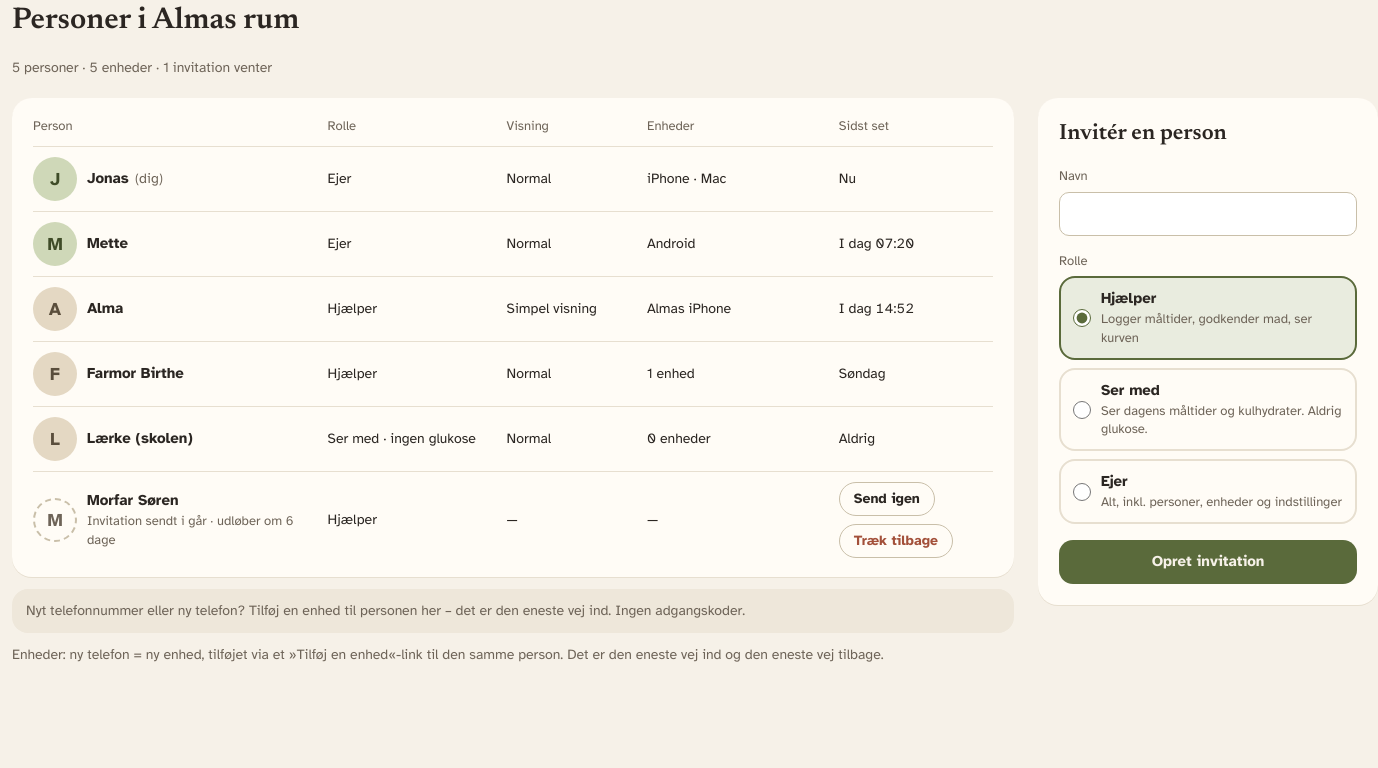
it: PeopleScreen · keyboard › keeps one row reachable with Tab when the focused last row disappears on reload
Focus the row with test id "invite-row" at [513, 520], box [33,472,993,568]
Click the button "Træk tilbage" at [896, 541], box [839,524,953,558]
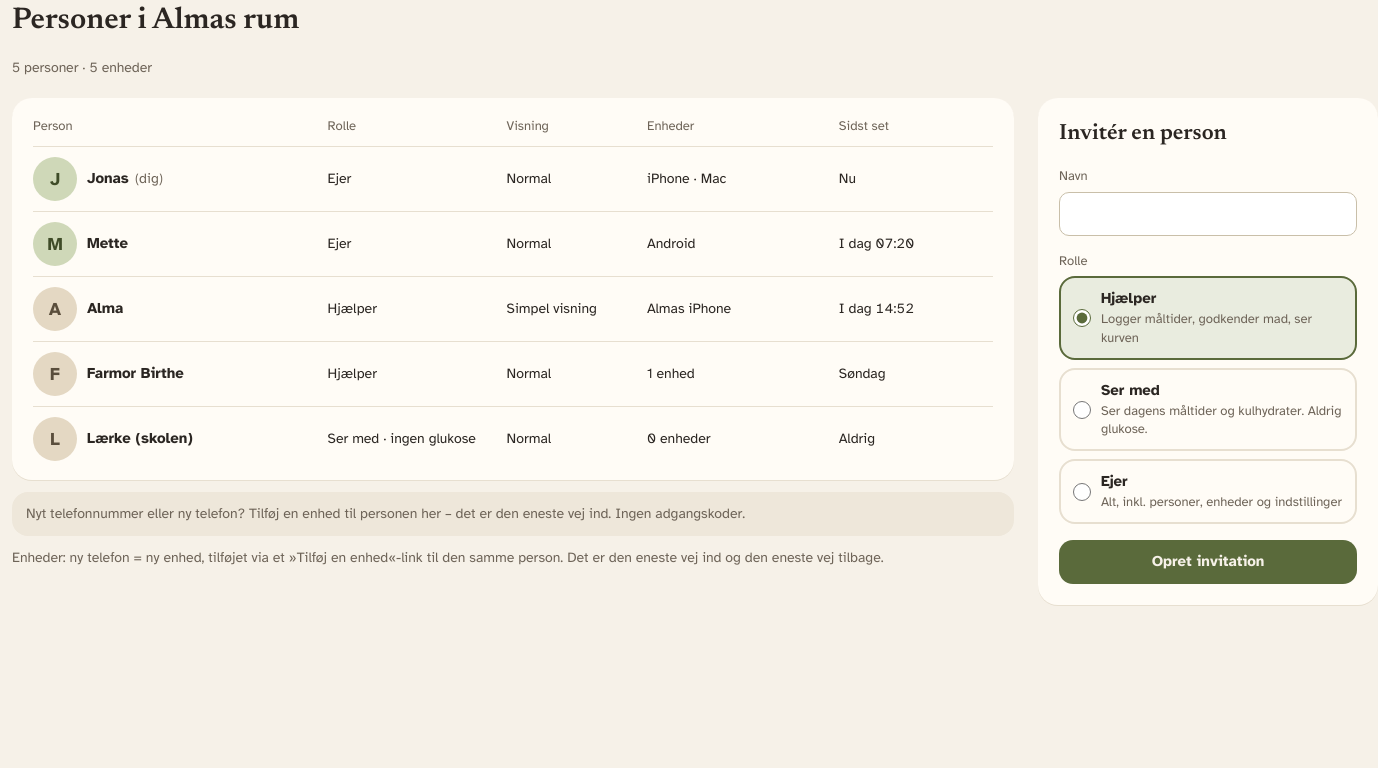
Expected: the row with test id "invite-row" is gone
